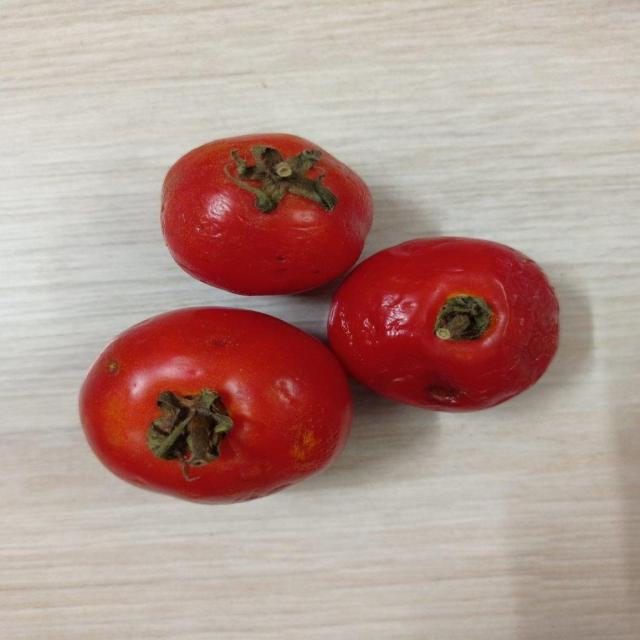Rotten: (326, 235, 564, 411)
overripe: (158, 132, 375, 296)
